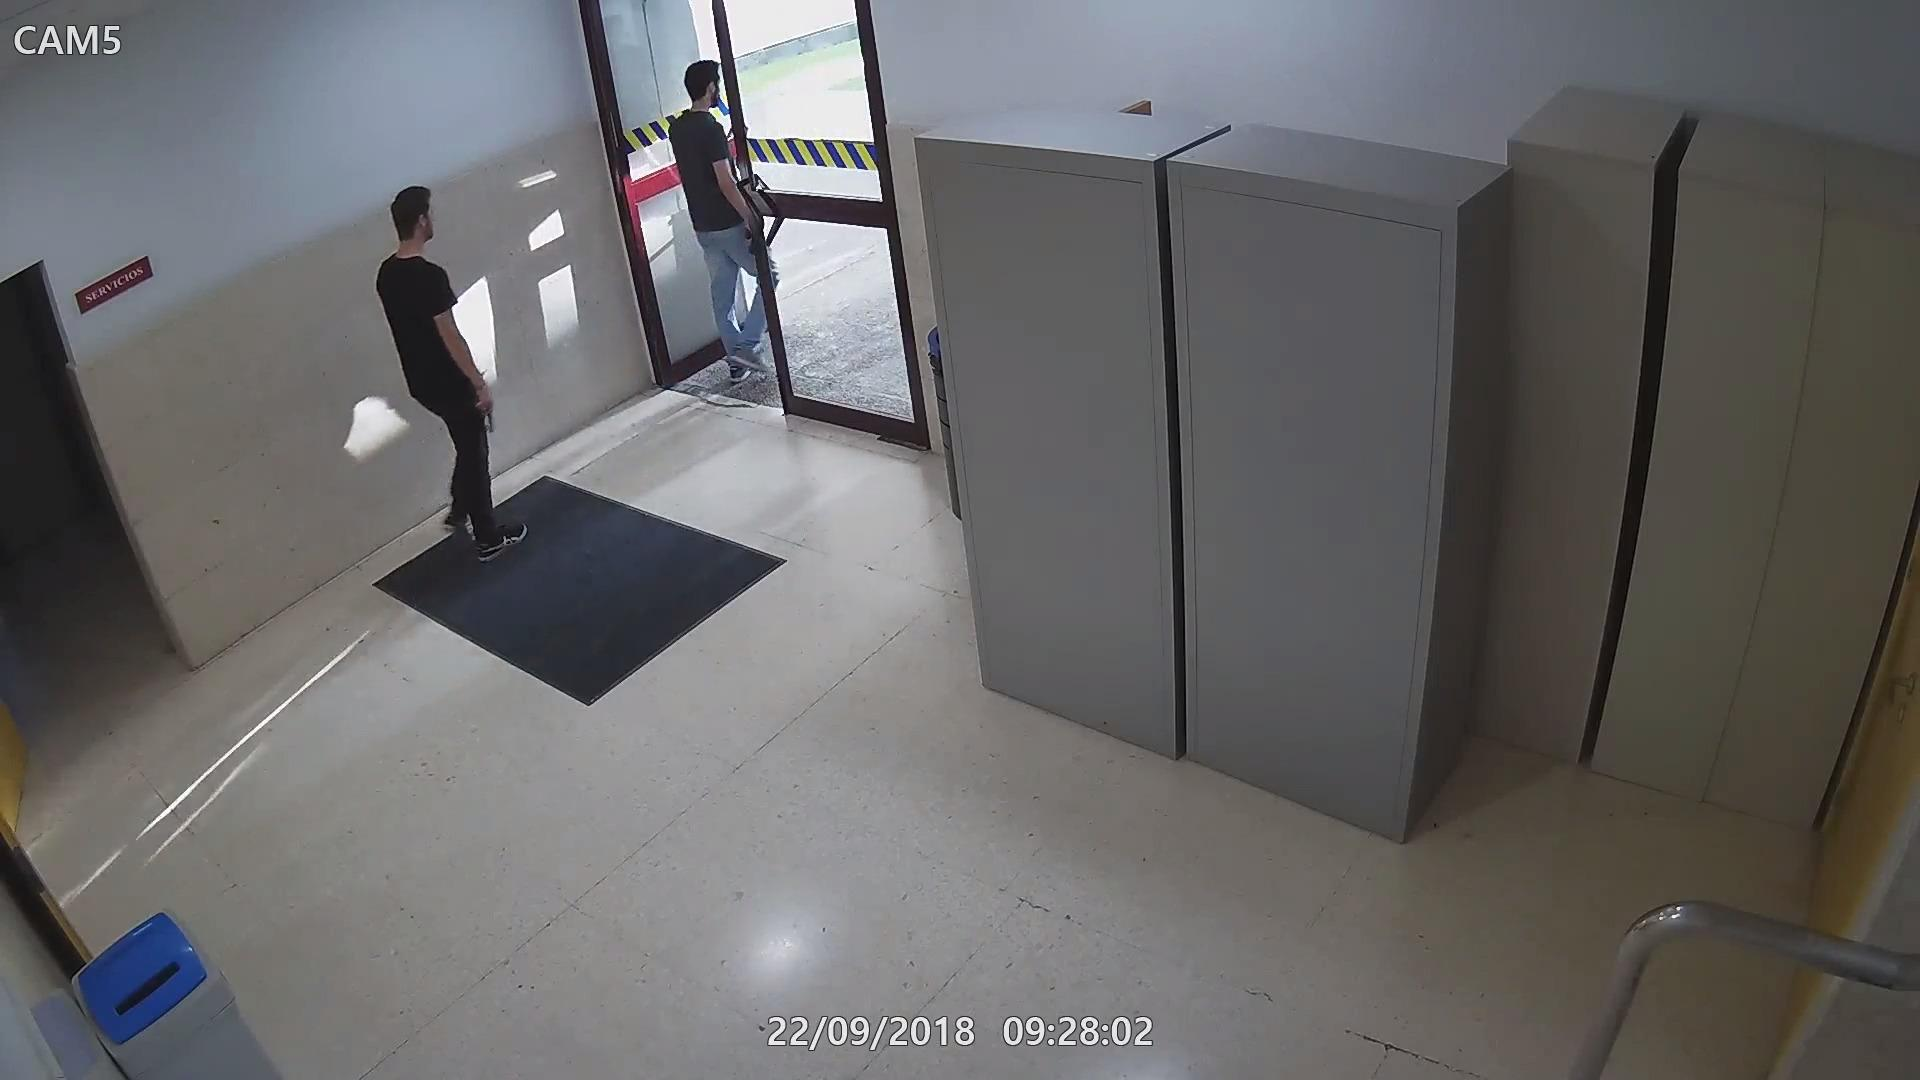Handgun: (467, 382, 495, 431)
